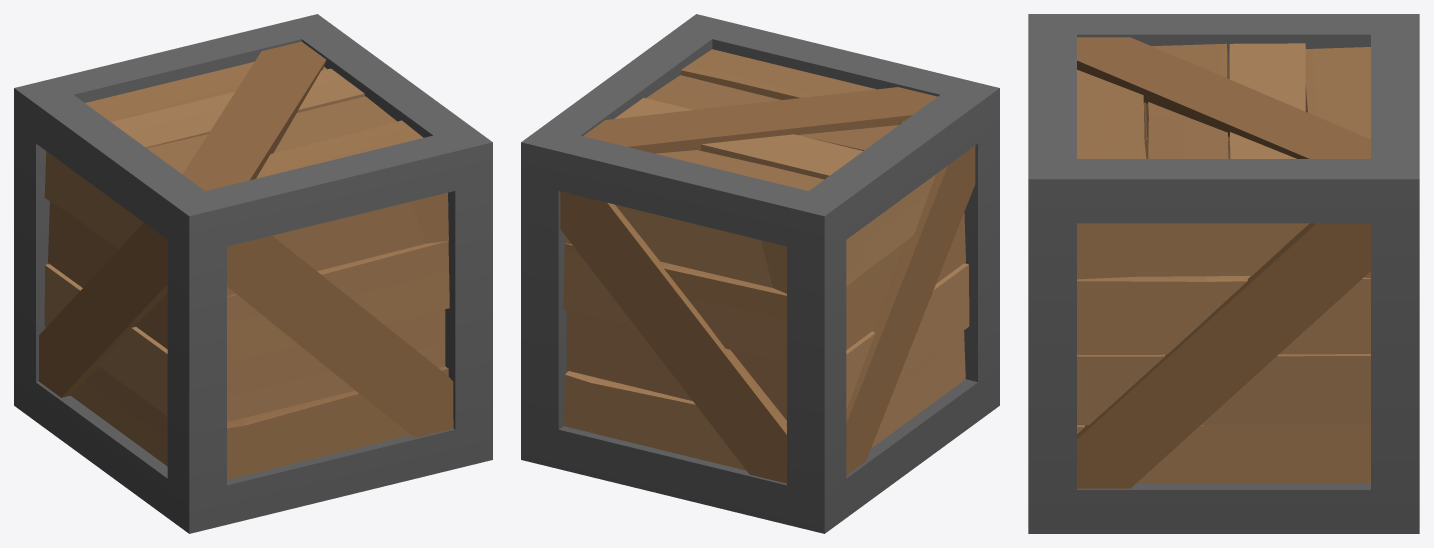
File: Box_Wood_Steel_B.fbx
3 renders of one model, left to right at view 1: azimuth 30°, elevation 25°; view 2: azimuth 150°, elevation 25°; view 3: azimuth 270°, elevation 25°, orthographic. The views are drawn at different scales.
Parts seen in each view (by area): view 1: Box_Wood_Steel_B; view 2: Box_Wood_Steel_B; view 3: Box_Wood_Steel_B.
Part boxes in pixels (x1,y1,x2,y2): Box_Wood_Steel_B: (14, 14, 492, 533); Box_Wood_Steel_B: (521, 14, 999, 533); Box_Wood_Steel_B: (1028, 14, 1419, 533).
Size of the model in its own units: 71.97 by 71.97 by 71.97.
